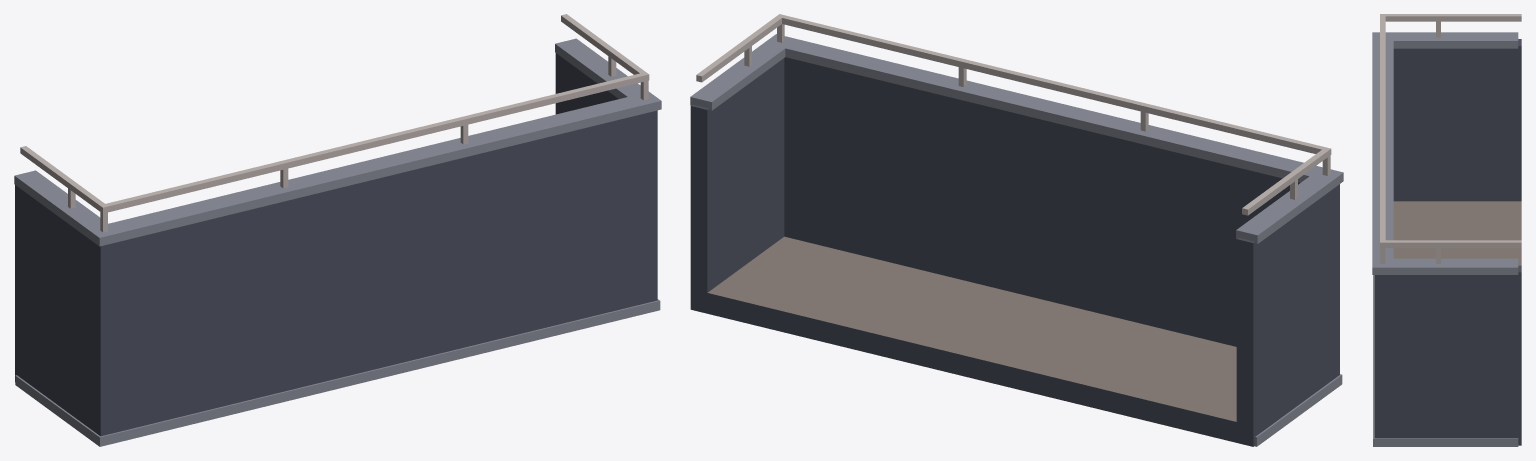
File: SM_Fixture_BalconyShort25620_Charcoal_01.gltf
3 renders of one model, left to right at view 1: azimuth 30°, elevation 25°; view 2: azimuth 150°, elevation 25°; view 3: azimuth 270°, elevation 25°, orthographic. The views are drawn at different scales.
Visible parts, largest first — view 1: SM_Fixture_BalconyShort25620_Charcoal_01; view 2: SM_Fixture_BalconyShort25620_Charcoal_01; view 3: SM_Fixture_BalconyShort25620_Charcoal_01.
Part boxes in pixels (bbox=[...]): SM_Fixture_BalconyShort25620_Charcoal_01: bbox=[14, 14, 661, 446]; SM_Fixture_BalconyShort25620_Charcoal_01: bbox=[690, 14, 1343, 446]; SM_Fixture_BalconyShort25620_Charcoal_01: bbox=[1372, 14, 1521, 446].
Size of the model in its own units: 3.41 by 1.36 by 0.915.
Materials: 1 (1 with a texture image).
